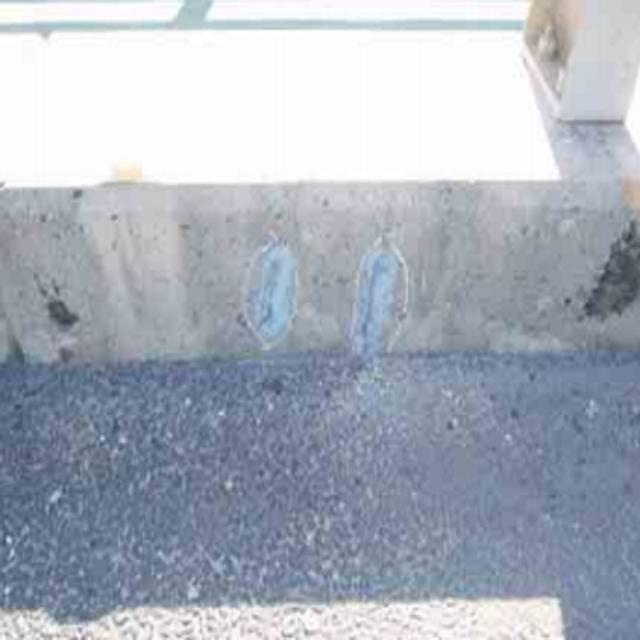spalling: (350, 250, 427, 379), (236, 236, 297, 357)
